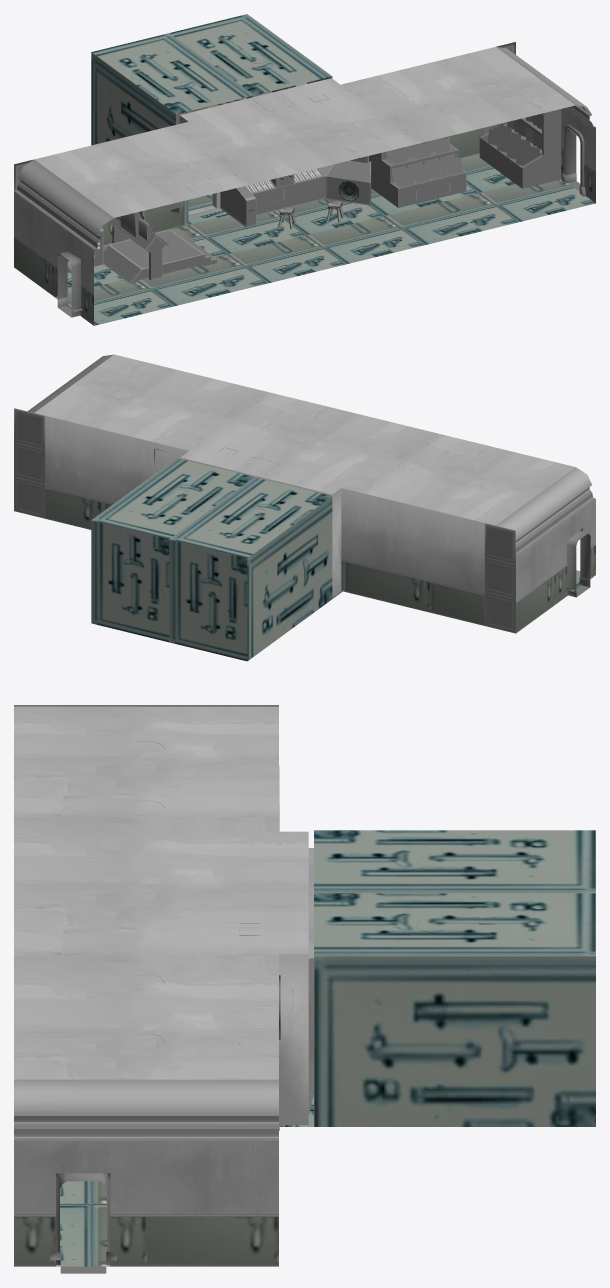
Rendered from MSH_Radio_station_room_L3_R3_optimized.fbx.
The picture shows the model from 3 angles, top to bottom: view 1: azimuth 30°, elevation 25°; view 2: azimuth 150°, elevation 25°; view 3: azimuth 270°, elevation 25°; orthographic projection. The views are drawn at different scales.
Parts seen in each view (by area): view 1: lightmap0, lightmap1; view 2: lightmap0; view 3: lightmap0.
Part boxes in pixels (x1,y1,x2,y2): lightmap0: (14, 14, 595, 325); lightmap1: (67, 46, 561, 283); lightmap0: (14, 354, 595, 661); lightmap0: (14, 705, 595, 1273).
Size of the model in its own units: 30.91 by 6.21 by 18.13.
